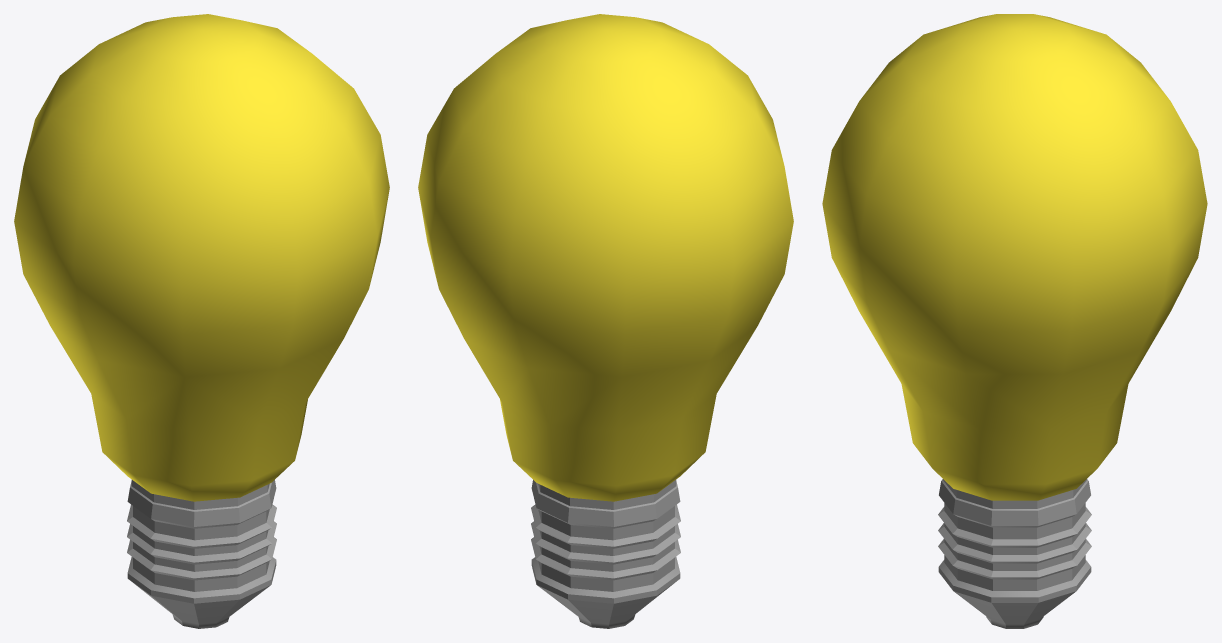
The model's file is lightbulb.glb.
3 renders of one model, left to right at view 1: azimuth 30°, elevation 25°; view 2: azimuth 150°, elevation 25°; view 3: azimuth 270°, elevation 25°, orthographic.
Visible parts, largest first — view 1: pSphere39; view 2: pSphere39; view 3: pSphere39.
Boxes of the visible parts, bbox=[...] form: pSphere39: bbox=[14, 14, 389, 628]; pSphere39: bbox=[418, 14, 793, 628]; pSphere39: bbox=[822, 14, 1207, 628].
Size of the model in its own units: 12.91 by 22.87 by 13.57.
